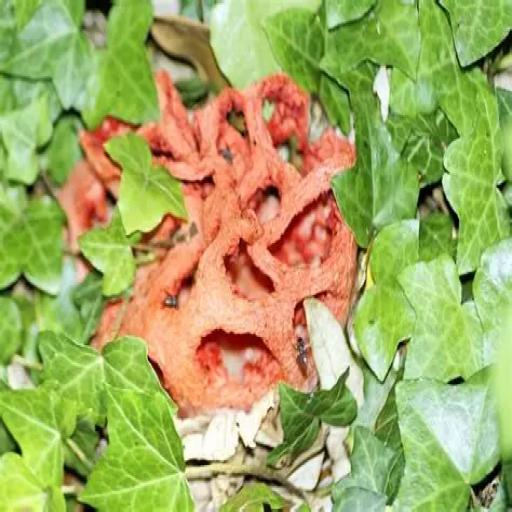Red Cage Fungus: (62, 68, 357, 435)
